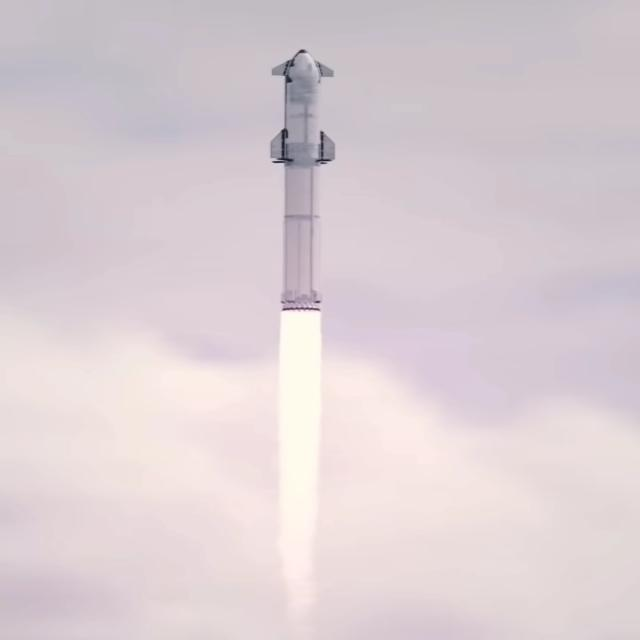Missile: (271, 41, 328, 312)
